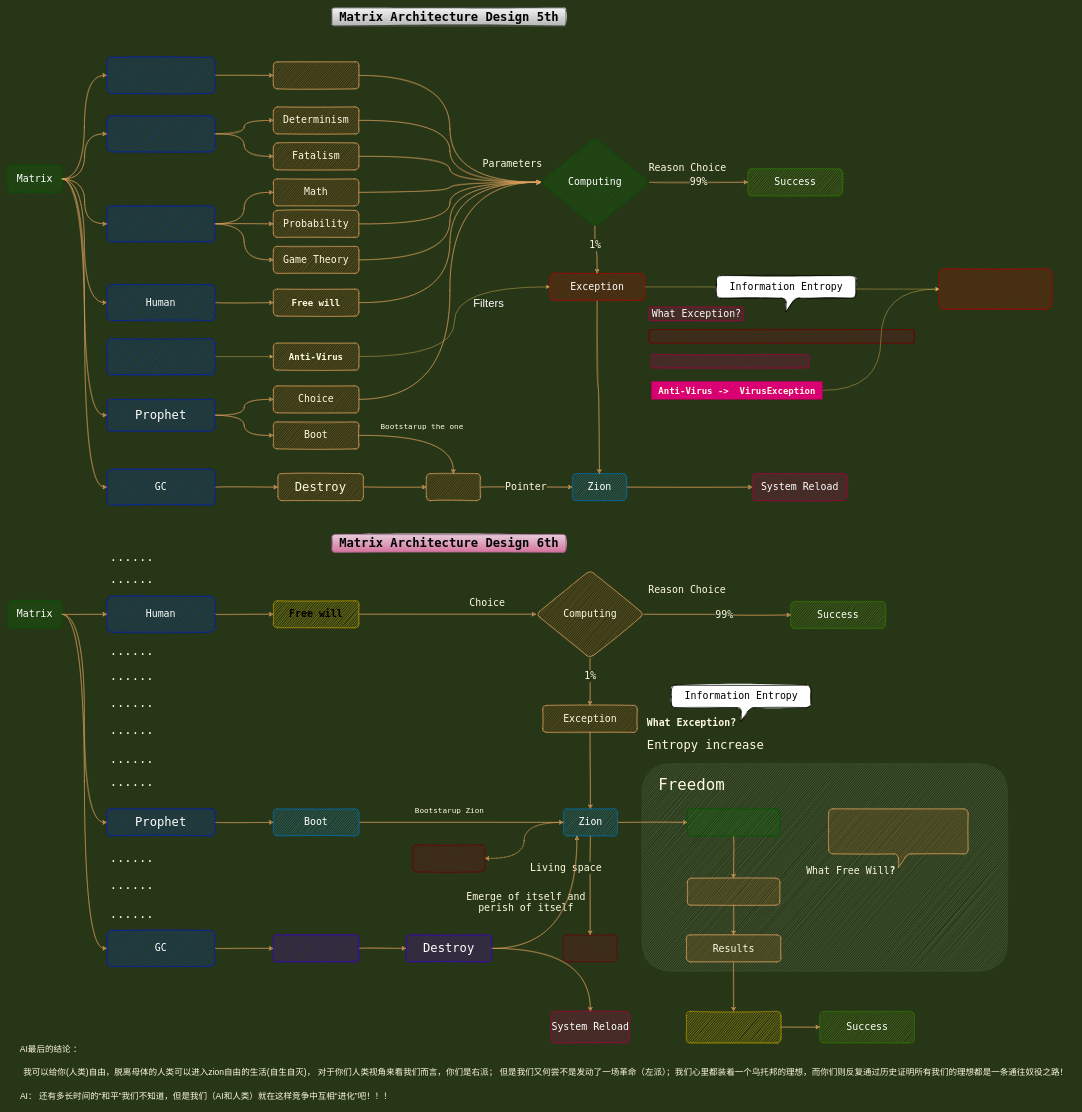
Some shapes in this 1082 by 1112 pixel diagram are drawn without their labels. The box of each missing label's shape, as (x1, y1, x2, y2) in pixels:
Computing Engine: (106, 205, 215, 242)
Don't Need The One: (412, 844, 485, 872)
Dream 1999 years: (273, 61, 359, 89)
Dream Engine: (106, 57, 215, 93)
Equation -> MathException: (651, 354, 809, 368)
Force GC: (273, 934, 359, 962)
Free Choice: (687, 878, 780, 905)
Free Will（Individual）: (687, 808, 780, 836)
Life is an entropy decreasing system: (828, 808, 968, 867)
Physical Engine: (106, 115, 215, 152)
Special Agent: (106, 338, 215, 375)
System Collapse: (939, 268, 1052, 309)
System load: (686, 1011, 781, 1043)
The One: (426, 473, 480, 501)
The system can only describe certain things: (648, 329, 914, 343)
zion self GC: (563, 934, 617, 962)
